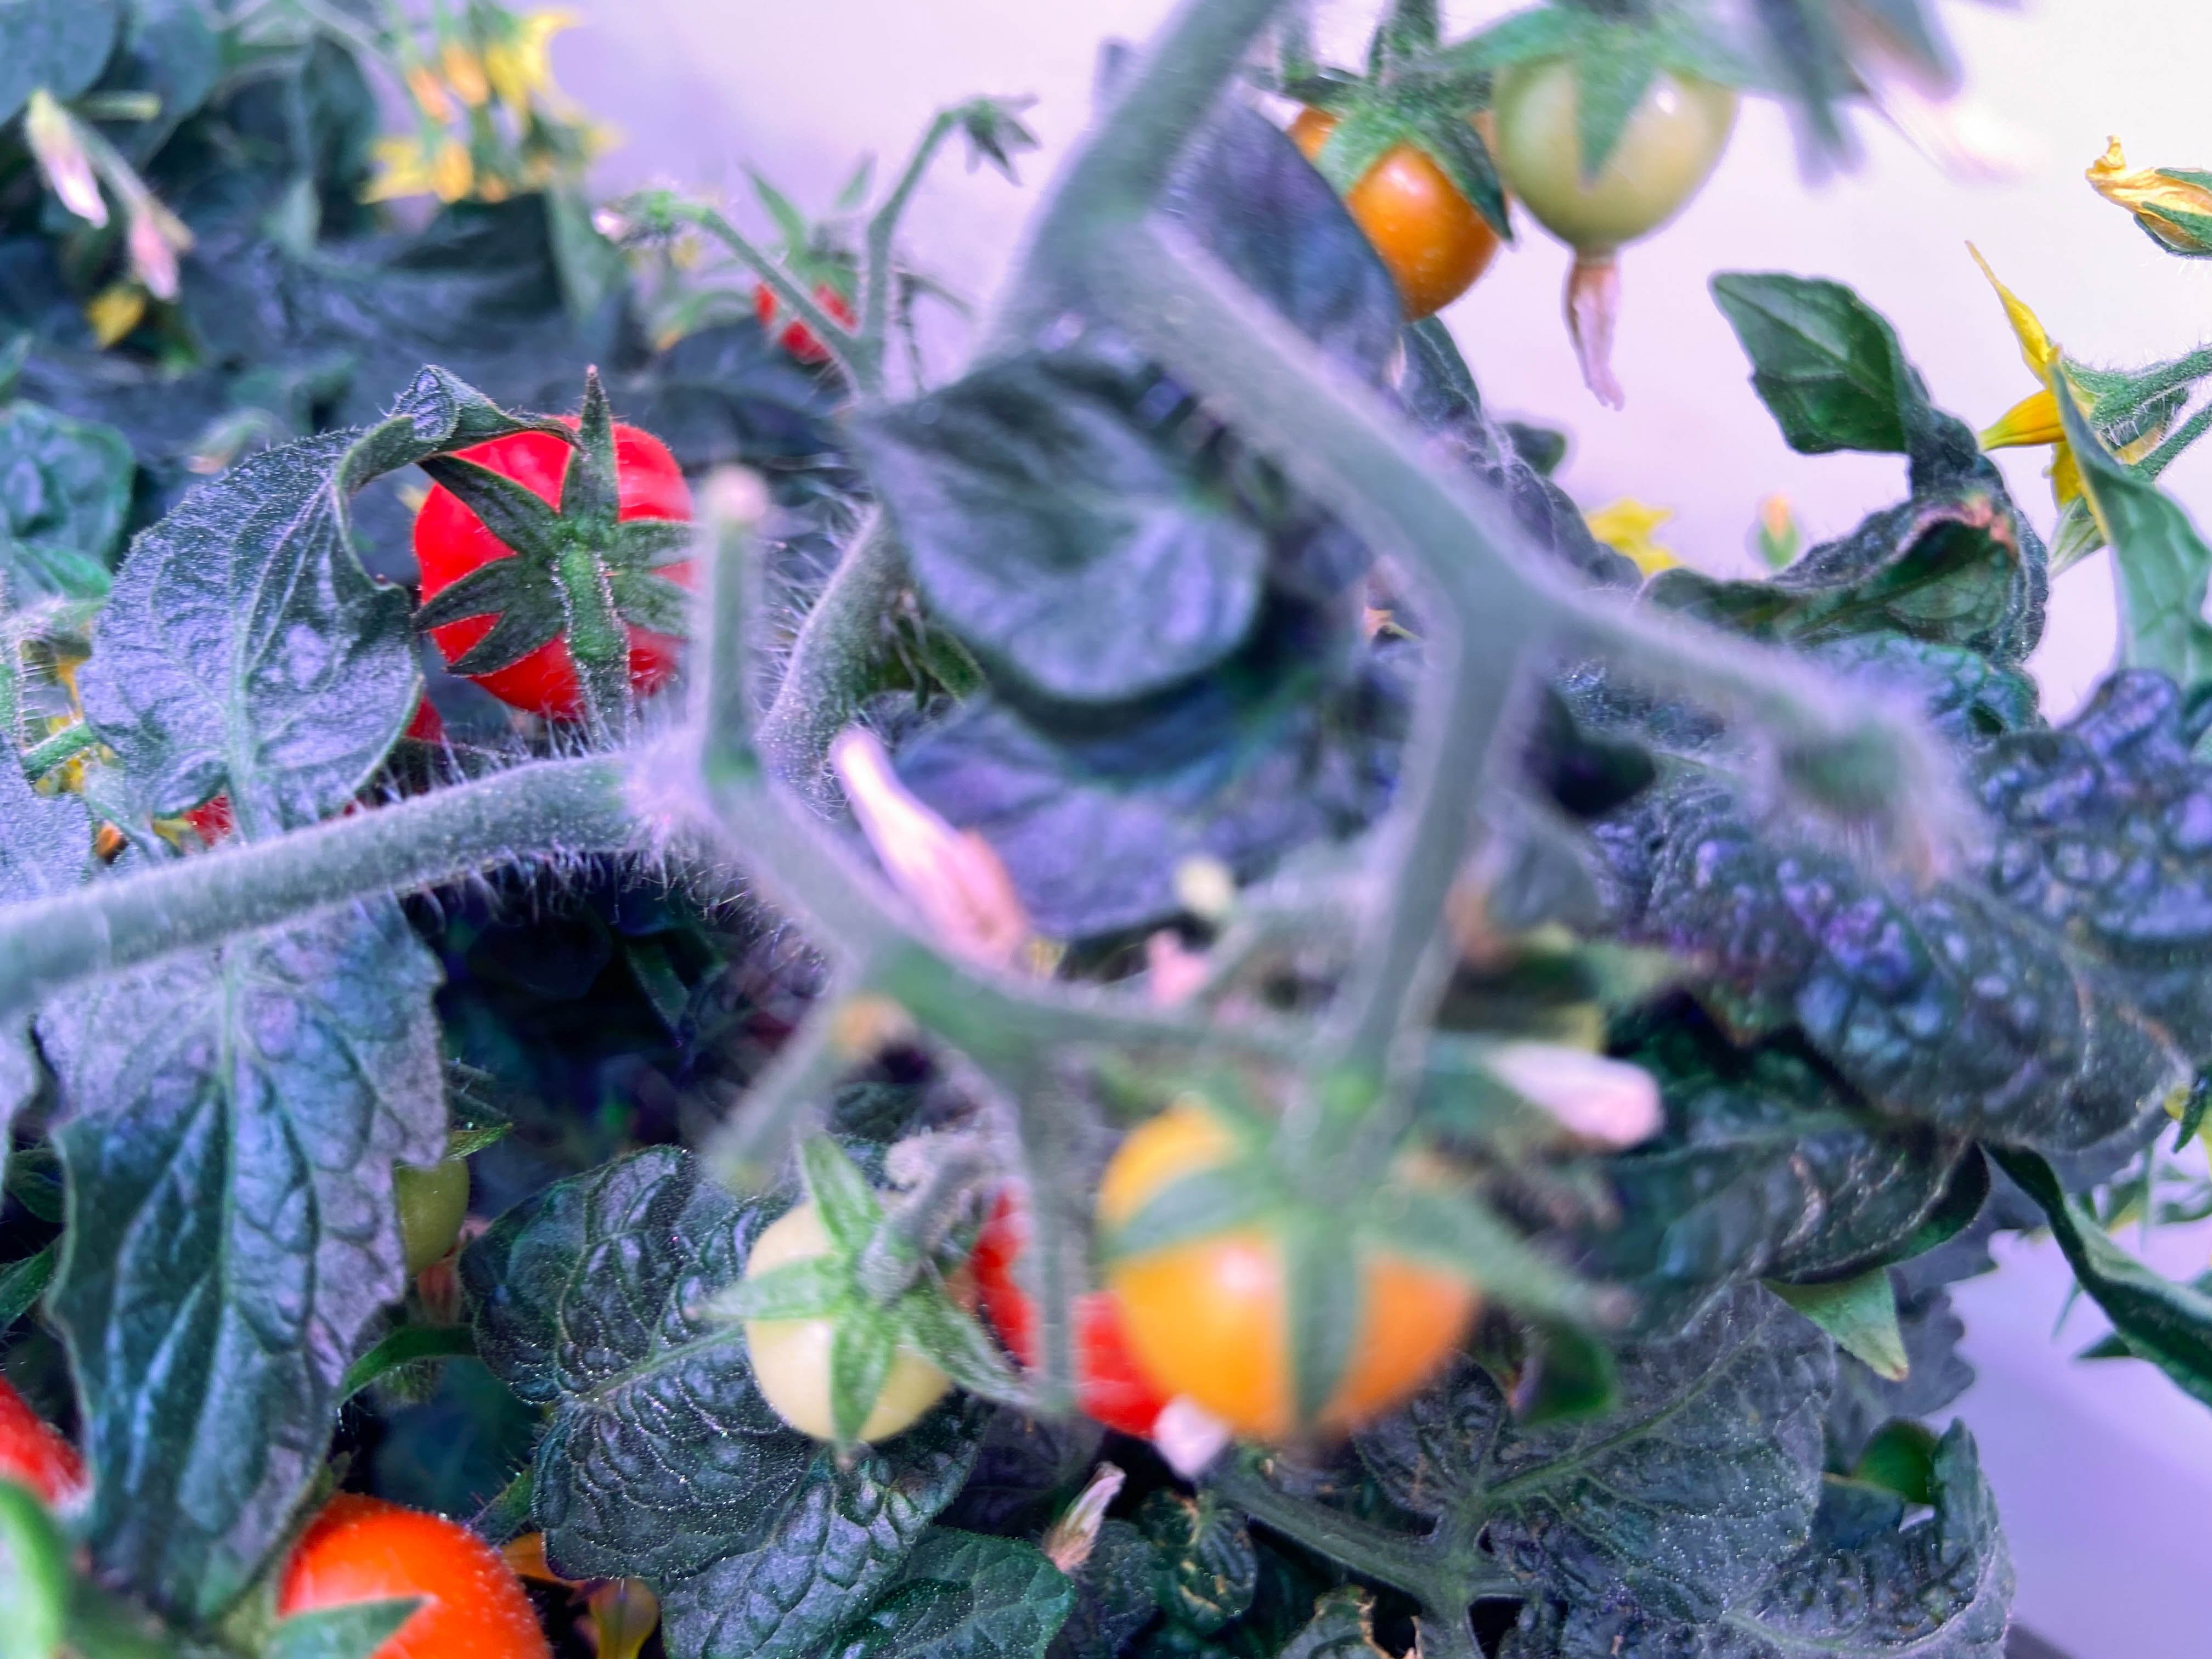green: (1477, 0, 1742, 254), (740, 1187, 968, 1448), (390, 1133, 474, 1272)
red: (1087, 1077, 1480, 1446), (411, 418, 709, 714), (1264, 47, 1515, 326), (975, 1180, 1179, 1431), (265, 1499, 547, 1659), (752, 242, 852, 369)
